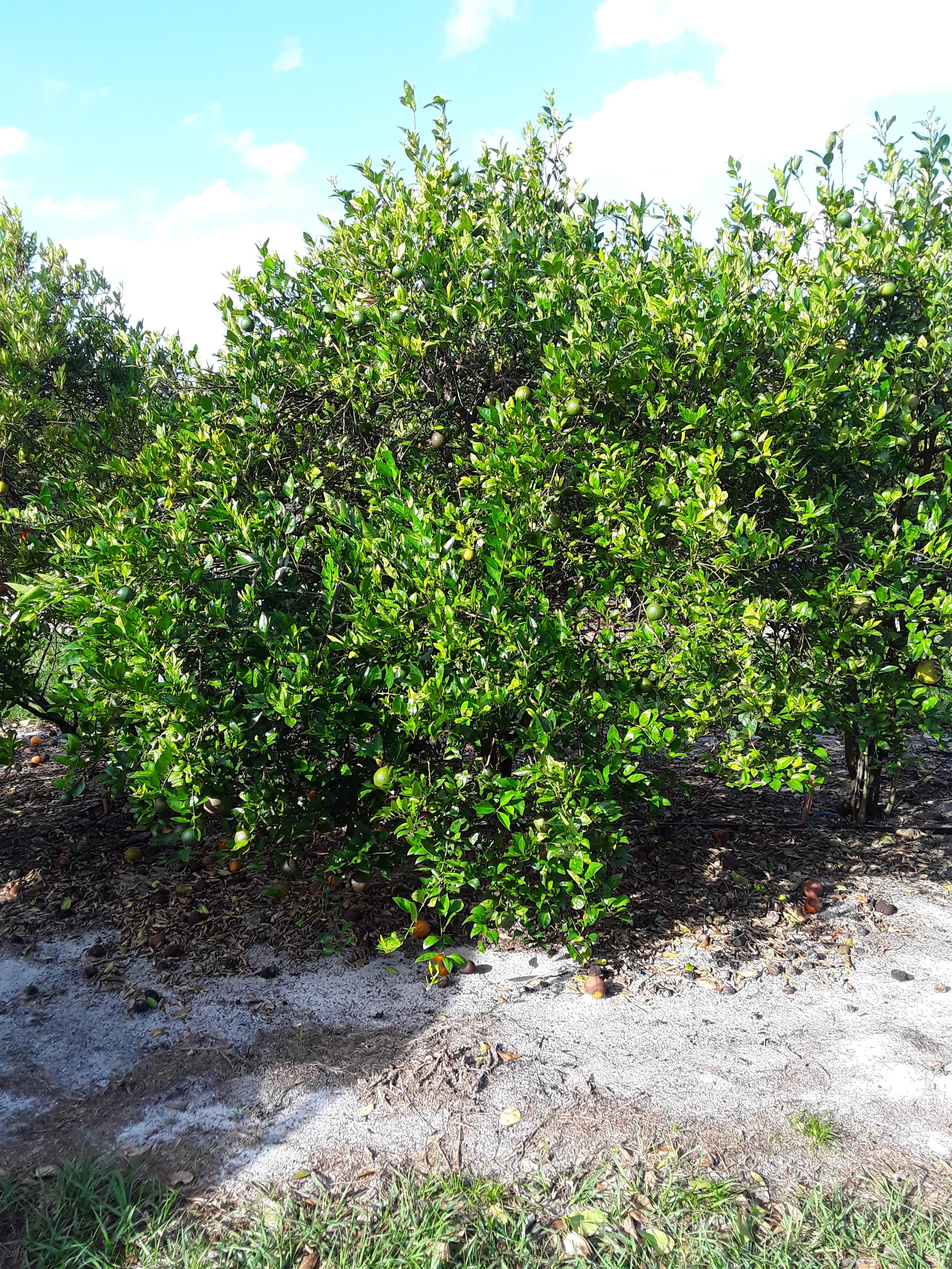fruit_on_ground: (846, 592, 874, 617), (201, 790, 229, 815), (917, 658, 941, 685), (348, 869, 372, 895), (278, 858, 302, 880), (373, 764, 394, 788), (533, 812, 555, 834), (543, 510, 563, 533), (108, 363, 135, 380), (876, 278, 897, 299), (564, 397, 586, 417), (654, 494, 676, 514), (559, 478, 580, 498), (494, 911, 516, 930), (484, 390, 504, 410), (646, 602, 667, 621), (181, 827, 200, 848), (154, 796, 171, 817), (515, 386, 534, 404), (430, 433, 449, 451), (895, 429, 912, 449), (116, 585, 135, 602), (901, 392, 919, 409), (873, 450, 891, 467), (478, 265, 497, 281), (836, 210, 853, 227), (322, 304, 340, 320), (390, 309, 406, 325), (637, 677, 653, 692), (448, 171, 464, 186), (241, 318, 257, 333), (376, 406, 392, 420), (730, 430, 746, 444), (59, 792, 75, 806), (860, 222, 876, 236), (462, 547, 477, 561), (352, 313, 367, 327), (356, 422, 371, 435), (304, 504, 318, 517), (393, 265, 406, 279), (0, 481, 9, 496), (368, 399, 379, 410), (577, 192, 587, 204)
fruit_on_tree: (428, 951, 452, 976), (584, 976, 608, 1001), (888, 968, 911, 990), (802, 878, 828, 897), (340, 906, 368, 923), (803, 897, 826, 916), (875, 902, 899, 917), (588, 964, 609, 981), (308, 881, 330, 897), (124, 845, 143, 863), (413, 920, 432, 938), (89, 943, 110, 958), (186, 909, 204, 926), (457, 958, 475, 975), (54, 856, 73, 872), (144, 988, 161, 1005), (723, 854, 741, 870), (150, 933, 168, 949), (713, 829, 733, 843), (433, 976, 453, 990), (326, 872, 345, 886), (194, 877, 213, 891), (165, 944, 184, 958), (8, 864, 25, 879), (81, 965, 102, 977), (259, 965, 278, 977), (8, 883, 28, 894), (131, 1001, 151, 1012), (29, 735, 45, 747), (154, 895, 171, 905), (222, 957, 235, 970), (30, 755, 44, 766), (229, 859, 239, 873), (29, 791, 41, 801)
